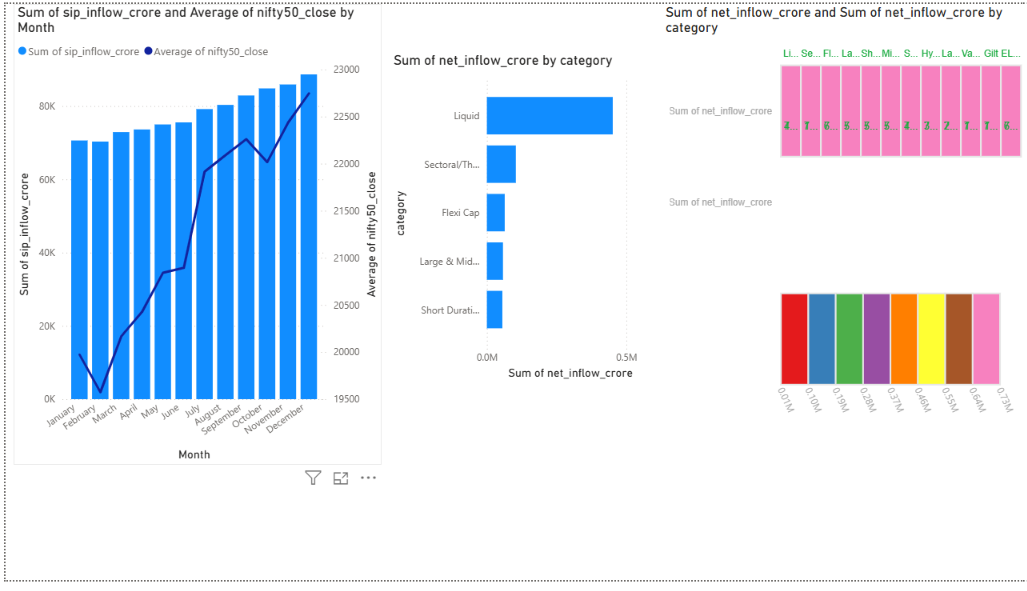

Layout of this report page (visuals, bound fields, positions):
{"tool":"powerbi","page":{"name":"Page 4","canvas":[1280,720],"ordinal":3},"visuals":[{"type":"lineClusteredColumnComboChart","fields":{"Category":["PAGE4_sip_vs_nifty (2).month.Variation.Date Hierarchy.Month"],"Y":["Sum(PAGE4_sip_vs_nifty (2).sip_inflow_crore)"],"Y2":["Avg(PAGE4_sip_vs_nifty (2).nifty50_close)"]},"box":[10,0,460,575.7],"z":0},{"type":"TableHeatMap1443716069308","fields":{"Y":["Sum(PAGE4_category_inflows.net_inflow_crore)","Sum(PAGE4_top5_categories_fy25.net_inflow_crore)"],"Category":["PAGE4_category_inflows.category"]},"box":[820,0,460,575.7],"z":1},{"type":"clusteredBarChart","fields":{"Category":["PAGE4_top5_categories_fy25.category"],"Y":["Sum(PAGE4_top5_categories_fy25.net_inflow_crore)"]},"box":[480,60,350,414.3],"z":2}]}

Visuals, with their boxes in screenshot pixels (x1, y1, x2, y2), scaled from the page's 1280x720 canvas onto the 1027x591 screenshot:
lineClusteredColumnComboChart - PAGE4_sip_vs_nifty (2).month.Variation.Date Hierarchy.Month x Sum(PAGE4_sip_vs_nifty (2).sip_inflow_crore): [left=8, top=0, right=377, bottom=473]
TableHeatMap1443716069308 - Sum(PAGE4_category_inflows.net_inflow_crore) x Sum(PAGE4_top5_categories_fy25.net_inflow_crore): [left=658, top=0, right=1026, bottom=473]
clusteredBarChart - PAGE4_top5_categories_fy25.category x Sum(PAGE4_top5_categories_fy25.net_inflow_crore): [left=385, top=49, right=666, bottom=389]
